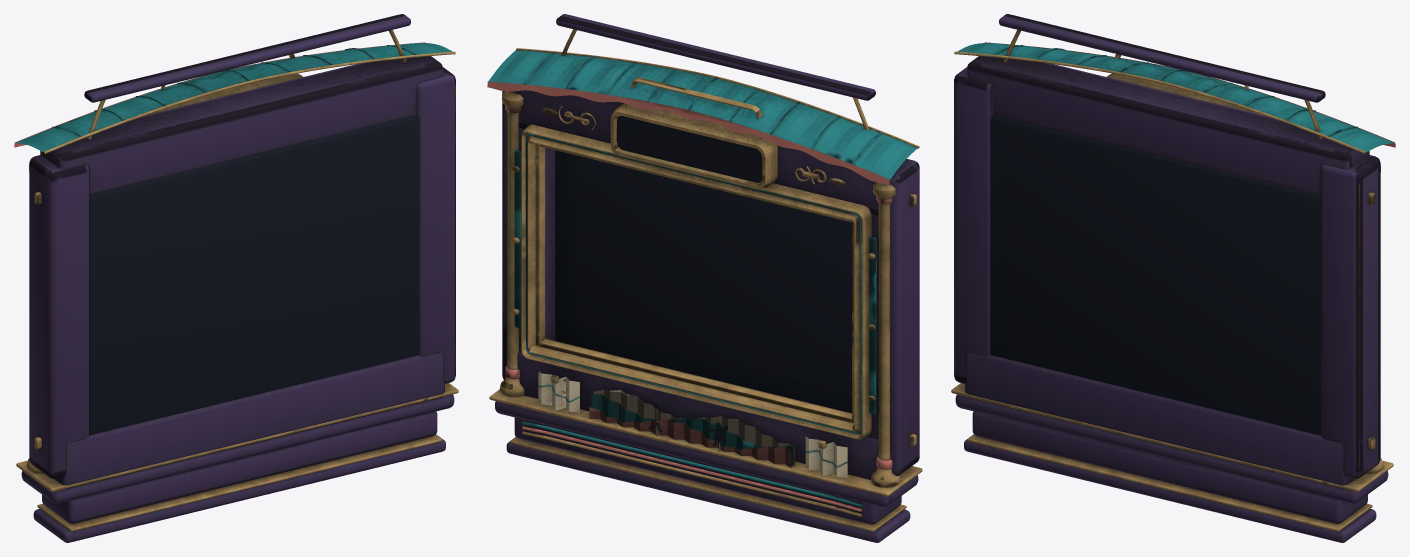
3 views of the same model, side by side, from view 1: azimuth 30°, elevation 25°; view 2: azimuth 150°, elevation 25°; view 3: azimuth 330°, elevation 25° (orthographic). The views are drawn at different scales.
Visible parts, largest first — view 1: Violet_enamel_scenery_case, Even_midnight_inset, Satin_aged_brass_fittings, Woven_teal_canopy; view 2: Even_midnight_inset, Violet_enamel_scenery_case, Satin_aged_brass_fittings, Woven_teal_canopy, Woven_coral_accents, Ivory_folded_route_paper; view 3: Violet_enamel_scenery_case, Even_midnight_inset, Satin_aged_brass_fittings, Woven_teal_canopy.
Boxes of the visible parts, left/top/right/bottom form: Violet_enamel_scenery_case: left=21, top=14, right=455, bottom=542; Even_midnight_inset: left=89, top=115, right=419, bottom=435; Satin_aged_brass_fittings: left=16, top=30, right=458, bottom=531; Woven_teal_canopy: left=15, top=43, right=452, bottom=152; Even_midnight_inset: left=555, top=116, right=851, bottom=448; Violet_enamel_scenery_case: left=495, top=14, right=919, bottom=542; Satin_aged_brass_fittings: left=489, top=29, right=922, bottom=531; Woven_teal_canopy: left=488, top=50, right=917, bottom=506; Woven_coral_accents: left=487, top=81, right=892, bottom=511; Ivory_folded_route_paper: left=538, top=371, right=847, bottom=478; Violet_enamel_scenery_case: left=954, top=14, right=1388, bottom=542; Even_midnight_inset: left=990, top=115, right=1320, bottom=435; Satin_aged_brass_fittings: left=951, top=30, right=1393, bottom=531; Woven_teal_canopy: left=957, top=43, right=1394, bottom=152.
Size of the model in its own units: 8.96 by 9 by 1.44.
6 materials, 6 textured.
